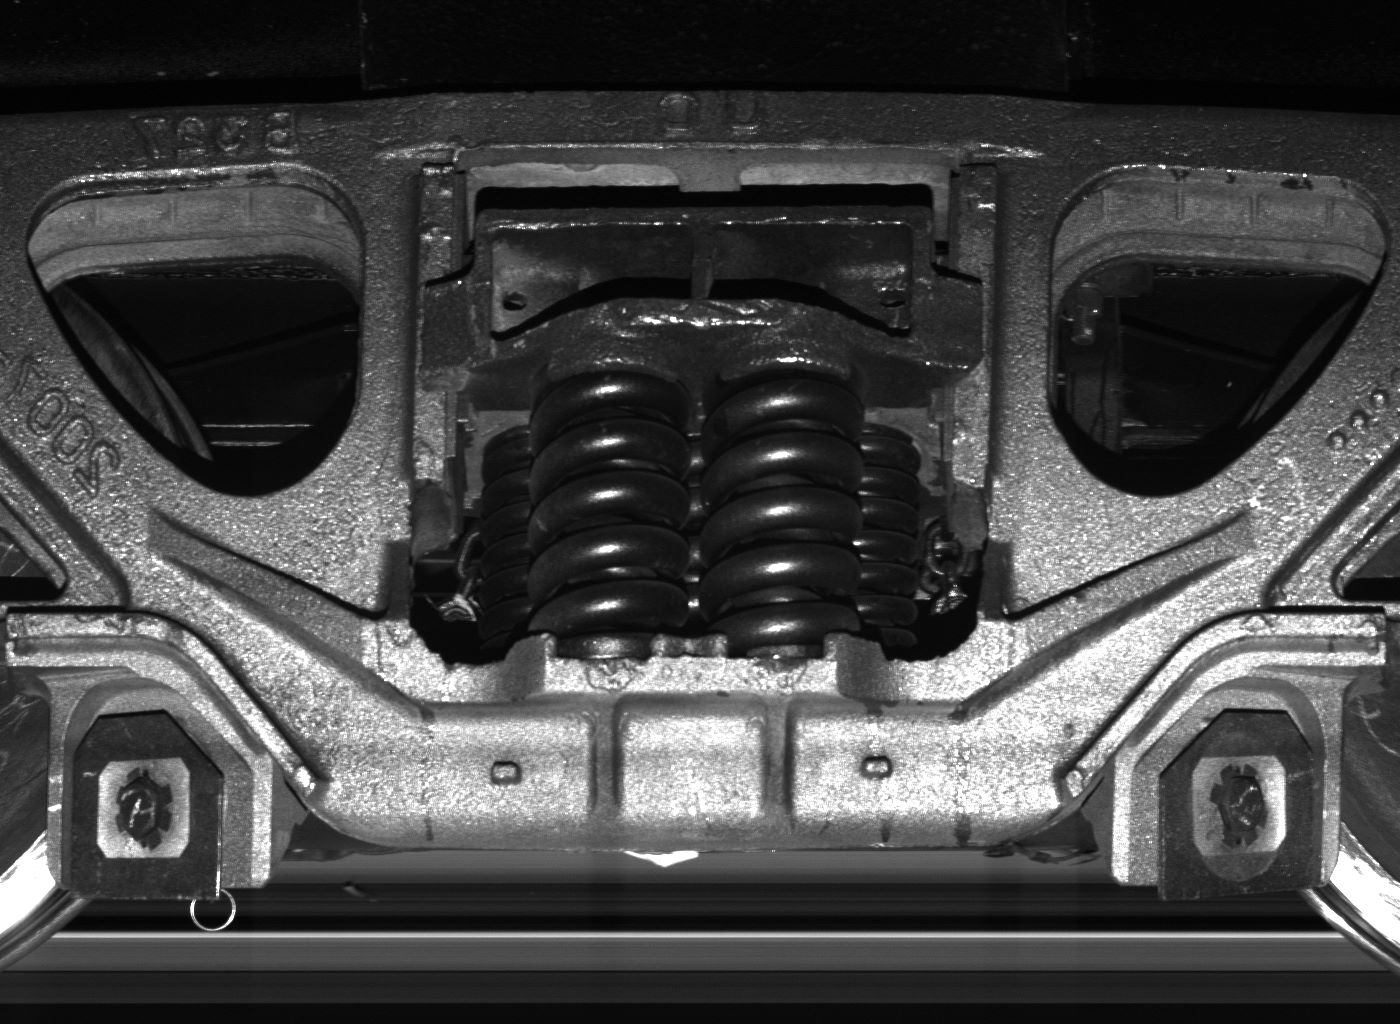normal: (47, 676, 268, 902), (1126, 676, 1346, 900)
